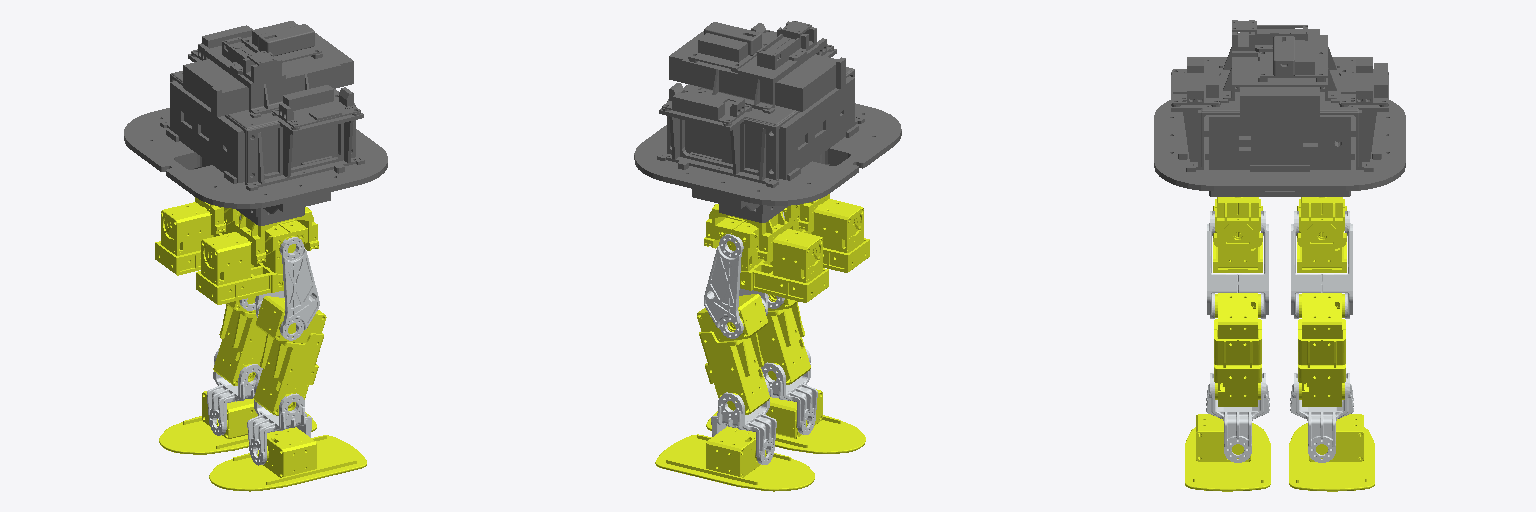
robot.urdf — exhx5_w_b_16:
<?xml version="1.0" encoding="utf-8"?>
<!-- This URDF was automatically created by SolidWorks to URDF Exporter! Originally created by [author] ([email redacted]) 
     Commit Version: 1.5.1-0-g916b5db  Build Version: 1.5.7152.31018
     For more information, please see http://wiki.ros.org/sw_urdf_exporter -->
<robot
  name="exhx5_w_b_16">
  <link
    name="body_link">
    <inertial>
      <origin
        xyz="0.00043545 0.00025536 0.10071"
        rpy="0 0 0" />
      <mass
        value="1.8238" />
      <inertia
        ixx="0.0025905"
        ixy="-5.6852E-06"
        ixz="-1.3106E-05"
        iyy="0.0024595"
        iyz="-1.261E-06"
        izz="0.0046407" />
    </inertial>
    <visual>
      <origin
        xyz="0 0 0"
        rpy="0 0 0" />
      <geometry>
        <mesh
          filename="../meshes/body_link.STL" />
      </geometry>
      <material
        name="">
        <color
          rgba="0.49804 0.49804 0.49804 1" />
      </material>
    </visual>
    <collision>
      <origin
        xyz="0 0 0"
        rpy="0 0 0" />
      <geometry>
        <mesh
          filename="../meshes/body_link.STL" />
      </geometry>
    </collision>
  </link>

  <link
    name="imu_link">
    <inertial>
      <origin
        xyz="-0.008387 1.336E-17 -0.0069463"
        rpy="0 0 0" />
      <mass
        value="0.0062931" />
      <inertia
        ixx="3.2242E-07"
        ixy="3.3527E-22"
        ixz="-6.9193E-08"
        iyy="9.2229E-07"
        iyz="-8.0392E-22"
        izz="1.1018E-06" />
    </inertial>
    <visual>
      <origin
        xyz="0 0 0"
        rpy="0 0 0" />
      <geometry>
        <mesh
          filename="../meshes/imu_link.STL" />
      </geometry>
      <material
        name="">
        <color
          rgba="0.79216 0.81961 0.93333 1" />
      </material>
    </visual>
    <collision>
      <origin
        xyz="0 0 0"
        rpy="0 0 0" />
      <geometry>
        <mesh
          filename="../meshes/imu_link.STL" />
      </geometry>
    </collision>
  </link>
  <joint
    name="imu"
    type="fixed">
    <origin
      xyz="0 0 0.0492"
      rpy="0 0 0" />
    <parent
      link="body_link" />
    <child
      link="imu_link" />
    <axis
      xyz="0 0 0" />
    <limit
      lower="-3.14"
      upper="3.14"
      effort="4"
      velocity="4" />
  </joint>
  <link
    name="l_hip_g_link">
    <inertial>
      <origin
        xyz="-0.0043797 -8.6604E-08 0.011813"
        rpy="0 0 0" />
      <mass
        value="0.061008" />
      <inertia
        ixx="1.167E-05"
        ixy="7.1767E-11"
        ixz="9.1442E-09"
        iyy="2.2342E-05"
        iyz="2.5177E-11"
        izz="2.4892E-05" />
    </inertial>
    <visual>
      <origin
        xyz="0 0 0"
        rpy="0 0 0" />
      <geometry>
        <mesh
          filename="../meshes/l_hip_g_link.STL" />
      </geometry>
      <material
        name="">
        <color
          rgba="0.9451 1 0.18431 1" />
      </material>
    </visual>
    <collision>
      <origin
        xyz="0 0 0"
        rpy="0 0 0" />
      <geometry>
        <mesh
          filename="../meshes/l_hip_g_link.STL" />
      </geometry>
    </collision>
  </link>
  <joint
    name="l_hip_g"
    type="fixed">
    <origin
      xyz="-.001 .035 0"
      rpy="0 0 0" />
    <parent
      link="body_link" />
    <child
      link="l_hip_g_link" />
    <axis
      xyz="0 0 0" />
  </joint>
  <link
    name="l_hip_roll_link">
    <inertial>
      <origin
        xyz="0.013831 0.00033457 0.025453"
        rpy="0 0 0" />
      <mass
        value="0.2969" />
      <inertia
        ixx="7.8136E-05"
        ixy="7.265E-07"
        ixz="-6.9809E-08"
        iyy="9.2183E-05"
        iyz="-5.6881E-11"
        izz="7.1034E-05" />
    </inertial>
    <visual>
      <origin
        xyz="0 0 0"
        rpy="0 0 0" />
      <geometry>
        <mesh
          filename="../meshes/l_hip_roll_link.STL" />
      </geometry>
      <material
        name="">
        <color
          rgba="0.9451 1 0.18431 1" />
      </material>
    </visual>
    <collision>
      <origin
        xyz="0 0 0"
        rpy="0 0 0" />
      <geometry>
        <mesh
          filename="../meshes/l_hip_roll_link.STL" />
      </geometry>
    </collision>
  </link>
  <joint
    name="l_hip_roll"
    type="revolute">
    <origin
      xyz="0 0 0"
      rpy="3.1416 1.5708 0" />
    <parent
      link="l_hip_g_link" />
    <child
      link="l_hip_roll_link" />
    <axis
      xyz="0 0 1" />
    <limit
      lower="-3.14"
      upper="3.14"
      effort="4"
      velocity="4" />
  </joint>
  <link
    name="l_hip_pitch_link">
    <inertial>
      <origin
        xyz="0.041225 -0.007321 -5.0713E-08"
        rpy="0 0 0" />
      <mass
        value="0.051592" />
      <inertia
        ixx="2.7959E-05"
        ixy="2.0752E-06"
        ixz="-8.0934E-11"
        iyy="4.8156E-05"
        iyz="3.6317E-11"
        izz="2.9604E-05" />
    </inertial>
    <visual>
      <origin
        xyz="0 0 0"
        rpy="0 0 0" />
      <geometry>
        <mesh
          filename="../meshes/l_hip_pitch_link.STL" />
      </geometry>
      <material
        name="">
        <color
          rgba="0.89804 0.91765 0.92941 1" />
      </material>
    </visual>
    <collision>
      <origin
        xyz="0 0 0"
        rpy="0 0 0" />
      <geometry>
        <mesh
          filename="../meshes/l_hip_pitch_link.STL" />
      </geometry>
    </collision>
  </link>
  <joint
    name="l_hip_pitch"
    type="revolute">
    <origin
      xyz="0 0 0"
      rpy="1.5708 0 0" />
    <parent
      link="l_hip_roll_link" />
    <child
      link="l_hip_pitch_link" />
    <axis
      xyz="0 0 1" />
    <limit
      lower="-3.14"
      upper="3.14"
      effort="4"
      velocity="4" />
  </joint>
  <link
    name="l_knee_link">
    <inertial>
      <origin
        xyz="0.033756 -0.0084189 -6.6115E-09"
        rpy="0 0 0" />
      <mass
        value="0.28878" />
      <inertia
        ixx="6.6724E-05"
        ixy="7.5004E-07"
        ixz="-8.4578E-07"
        iyy="6.5699E-05"
        iyz="4.1085E-07"
        izz="7.0381E-05" />
    </inertial>
    <visual>
      <origin
        xyz="0 0 0"
        rpy="0 0 0" />
      <geometry>
        <mesh
          filename="../meshes/l_knee_link.STL" />
      </geometry>
      <material
        name="">
        <color
          rgba="0.9451 1 0.18431 1" />
      </material>
    </visual>
    <collision>
      <origin
        xyz="0 0 0"
        rpy="0 0 0" />
      <geometry>
        <mesh
          filename="../meshes/l_knee_link.STL" />
      </geometry>
    </collision>
  </link>
  <joint
    name="l_knee"
    type="revolute">
    <origin
      xyz="0.075954 0 0"
      rpy="0 0 0" />
    <parent
      link="l_hip_pitch_link" />
    <child
      link="l_knee_link" />
    <axis
      xyz="0 0 1" />
    <limit
      lower="-3.14"
      upper="3.14"
      effort="4"
      velocity="4" />
  </joint>
  <link
    name="l_ank_pitch_link">
    <inertial>
      <origin
        xyz="0.022786 -7.3909E-09 -7.1981E-06"
        rpy="0 0 0" />
      <mass
        value="0.044772" />
      <inertia
        ixx="1.777E-05"
        ixy="8.555E-14"
        ixz="-3.3713E-09"
        iyy="1.7119E-05"
        iyz="1.7593E-11"
        izz="1.8661E-05" />
    </inertial>
    <visual>
      <origin
        xyz="0 0 0"
        rpy="0 0 0" />
      <geometry>
        <mesh
          filename="../meshes/l_ank_pitch_link.STL" />
      </geometry>
      <material
        name="">
        <color
          rgba="0.89804 0.91765 0.92941 1" />
      </material>
    </visual>
    <collision>
      <origin
        xyz="0 0 0"
        rpy="0 0 0" />
      <geometry>
        <mesh
          filename="../meshes/l_ank_pitch_link.STL" />
      </geometry>
    </collision>
  </link>
  <joint
    name="l_ank_pitch"
    type="revolute">
    <origin
      xyz="0.074602 0 0"
      rpy="3.1416 0 0" />
    <parent
      link="l_knee_link" />
    <child
      link="l_ank_pitch_link" />
    <axis
      xyz="0 0 1" />
    <limit
      lower="-3.14"
      upper="3.14"
      effort="4"
      velocity="4" />
  </joint>
  <link
    name="l_ank_roll_link">
    <inertial>
      <origin
        xyz="0.0047069 0.010728 0.0015299"
        rpy="0 0 0" />
      <mass
        value="0.16774" />
      <inertia
        ixx="0.00012039"
        ixy="-3.7428E-09"
        ixz="4.4069E-08"
        iyy="8.7735E-05"
        iyz="7.0469E-07"
        izz="4.7866E-05" />
    </inertial>
    <visual>
      <origin
        xyz="0 0 0"
        rpy="0 0 0" />
      <geometry>
        <mesh
          filename="../meshes/l_ank_roll_link.STL" />
      </geometry>
      <material
        name="">
        <color
          rgba="0.9451 1 0.18431 1" />
      </material>
    </visual>
    <collision>
      <origin
        xyz="0 0 0"
        rpy="0 0 0" />
      <geometry>
        <mesh
          filename="../meshes/l_ank_roll_link.STL" />
      </geometry>
    </collision>
  </link>
  <joint
    name="l_ank_roll"
    type="revolute">
    <origin
      xyz="0.0465 0 0"
      rpy="-1.5708 0 0" />
    <parent
      link="l_ank_pitch_link" />
    <child
      link="l_ank_roll_link" />
    <axis
      xyz="0 0 1" />
    <limit
      lower="-3.14"
      upper="3.14"
      effort="4"
      velocity="4" />
  </joint>
  <link
    name="r_hip_g_link">
    <inertial>
      <origin
        xyz="-0.0043797 -8.6604E-08 0.011813"
        rpy="0 0 0" />
      <mass
        value="0.061008" />
      <inertia
        ixx="1.167E-05"
        ixy="7.1767E-11"
        ixz="9.1442E-09"
        iyy="2.2342E-05"
        iyz="2.5177E-11"
        izz="2.4892E-05" />
    </inertial>
    <visual>
      <origin
        xyz="0 0 0"
        rpy="0 0 0" />
      <geometry>
        <mesh
          filename="../meshes/r_hip_g_link.STL" />
      </geometry>
      <material
        name="">
        <color
          rgba="0.9451 1 0.18431 1" />
      </material>
    </visual>
    <collision>
      <origin
        xyz="0 0 0"
        rpy="0 0 0" />
      <geometry>
        <mesh
          filename="../meshes/r_hip_g_link.STL" />
      </geometry>
    </collision>
  </link>
  <joint
    name="r_hip_g"
    type="fixed">
    <origin
      xyz="-.001 -.035 0"
      rpy="0 0 0" />
    <parent
      link="body_link" />
    <child
      link="r_hip_g_link" />
    <axis
      xyz="0 0 0" />
  </joint>
  <link
    name="r_hip_roll_link">
    <inertial>
      <origin
        xyz="0.013831 0.00033457 0.025453"
        rpy="0 0 0" />
      <mass
        value="0.2969" />
      <inertia
        ixx="7.8136E-05"
        ixy="7.265E-07"
        ixz="-6.9809E-08"
        iyy="9.2183E-05"
        iyz="-5.6881E-11"
        izz="7.1034E-05" />
    </inertial>
    <visual>
      <origin
        xyz="0 0 0"
        rpy="0 0 0" />
      <geometry>
        <mesh
          filename="../meshes/r_hip_roll_link.STL" />
      </geometry>
      <material
        name="">
        <color
          rgba="0.9451 1 0.18431 1" />
      </material>
    </visual>
    <collision>
      <origin
        xyz="0 0 0"
        rpy="0 0 0" />
      <geometry>
        <mesh
          filename="../meshes/r_hip_roll_link.STL" />
      </geometry>
    </collision>
  </link>
  <joint
    name="r_hip_roll"
    type="revolute">
    <origin
      xyz="0 0 0"
      rpy="3.1416 1.5708 0" />
    <parent
      link="r_hip_g_link" />
    <child
      link="r_hip_roll_link" />
    <axis
      xyz="0 0 1" />
    <limit
      lower="-3.14"
      upper="3.14"
      effort="4"
      velocity="4" />
  </joint>
  <link
    name="r_hip_pitch_link">
    <inertial>
      <origin
        xyz="0.041225 0.007321 5.0713E-08"
        rpy="0 0 0" />
      <mass
        value="0.051592" />
      <inertia
        ixx="2.7959E-05"
        ixy="-2.0752E-06"
        ixz="8.0934E-11"
        iyy="4.8156E-05"
        iyz="3.6317E-11"
        izz="2.9604E-05" />
    </inertial>
    <visual>
      <origin
        xyz="0 0 0"
        rpy="0 0 0" />
      <geometry>
        <mesh
          filename="../meshes/r_hip_pitch_link.STL" />
      </geometry>
      <material
        name="">
        <color
          rgba="0.89804 0.91765 0.92941 1" />
      </material>
    </visual>
    <collision>
      <origin
        xyz="0 0 0"
        rpy="0 0 0" />
      <geometry>
        <mesh
          filename="../meshes/r_hip_pitch_link.STL" />
      </geometry>
    </collision>
  </link>
  <joint
    name="r_hip_pitch"
    type="revolute">
    <origin
      xyz="0 0 0"
      rpy="-1.5708 0 0" />
    <parent
      link="r_hip_roll_link" />
    <child
      link="r_hip_pitch_link" />
    <axis
      xyz="0 0 1" />
    <limit
      lower="-3.14"
      upper="3.14"
      effort="4"
      velocity="4" />
  </joint>
  <link
    name="r_knee_link">
    <inertial>
      <origin
        xyz="0.033757 0.0084176 6.6115E-09"
        rpy="0 0 0" />
      <mass
        value="0.28878" />
      <inertia
        ixx="6.6724E-05"
        ixy="-7.5008E-07"
        ixz="8.458E-07"
        iyy="6.5699E-05"
        iyz="4.1081E-07"
        izz="7.0381E-05" />
    </inertial>
    <visual>
      <origin
        xyz="0 0 0"
        rpy="0 0 0" />
      <geometry>
        <mesh
          filename="../meshes/r_knee_link.STL" />
      </geometry>
      <material
        name="">
        <color
          rgba="0.9451 1 0.18431 1" />
      </material>
    </visual>
    <collision>
      <origin
        xyz="0 0 0"
        rpy="0 0 0" />
      <geometry>
        <mesh
          filename="../meshes/r_knee_link.STL" />
      </geometry>
    </collision>
  </link>
  <joint
    name="r_knee"
    type="revolute">
    <origin
      xyz="0.075954 0 0"
      rpy="0 0 0" />
    <parent
      link="r_hip_pitch_link" />
    <child
      link="r_knee_link" />
    <axis
      xyz="0 0 1" />
    <limit
      lower="-3.14"
      upper="3.14"
      effort="4"
      velocity="4" />
  </joint>
  <link
    name="r_ank_pitch_link">
    <inertial>
      <origin
        xyz="0.025786 -7.3887E-09 -7.1981E-06"
        rpy="0 0 0" />
      <mass
        value="0.044772" />
      <inertia
        ixx="1.777E-05"
        ixy="8.5434E-14"
        ixz="-3.3713E-09"
        iyy="1.7119E-05"
        iyz="1.7592E-11"
        izz="1.8661E-05" />
    </inertial>
    <visual>
      <origin
        xyz="0 0 0"
        rpy="0 0 0" />
      <geometry>
        <mesh
          filename="../meshes/r_ank_pitch_link.STL" />
      </geometry>
      <material
        name="">
        <color
          rgba="0.89804 0.91765 0.92941 1" />
      </material>
    </visual>
    <collision>
      <origin
        xyz="0 0 0"
        rpy="0 0 0" />
      <geometry>
        <mesh
          filename="../meshes/r_ank_pitch_link.STL" />
      </geometry>
    </collision>
  </link>
  <joint
    name="r_ank_pitch"
    type="revolute">
    <origin
      xyz="0.071602 0 0"
      rpy="3.1416 0 0" />
    <parent
      link="r_knee_link" />
    <child
      link="r_ank_pitch_link" />
    <axis
      xyz="0 0 1" />
    <limit
      lower="-3.14"
      upper="3.14"
      effort="4"
      velocity="4" />
  </joint>
  <link
    name="r_ank_roll_link">
    <inertial>
      <origin
        xyz="0.0077069 -0.010728 0.0015299"
        rpy="0 0 0" />
      <mass
        value="0.16774" />
      <inertia
        ixx="0.00012039"
        ixy="3.743E-09"
        ixz="4.407E-08"
        iyy="8.7735E-05"
        iyz="-7.0467E-07"
        izz="4.7866E-05" />
    </inertial>
    <visual>
      <origin
        xyz="0 0 0"
        rpy="0 0 0" />
      <geometry>
        <mesh
          filename="../meshes/r_ank_roll_link.STL" />
      </geometry>
      <material
        name="">
        <color
          rgba="0.9451 1 0.18431 1" />
      </material>
    </visual>
    <collision>
      <origin
        xyz="0 0 0"
        rpy="0 0 0" />
      <geometry>
        <mesh
          filename="../meshes/r_ank_roll_link.STL" />
      </geometry>
    </collision>
  </link>
  <joint
    name="r_ank_roll"
    type="revolute">
    <origin
      xyz="0.0465 0 0"
      rpy="1.5708 0 0" />
    <parent
      link="r_ank_pitch_link" />
    <child
      link="r_ank_roll_link" />
    <axis
      xyz="0 0 1" />
    <limit
      lower="-3.14"
      upper="3.14"
      effort="4"
      velocity="4" />
  </joint>
  <transmission name="r_hip_roll_tran">
    <type>transmission_interface/SimpleTransmission</type>
    <joint name="r_hip_roll">
      <hardwareInterface>hardware_interface/EffortJointInterface</hardwareInterface>
    </joint>
    <actuator name="r_hip_roll_motor">
      <hardwareInterface>hardware_interface/EffortJointInterface</hardwareInterface>
      <mechanicalReduction>1</mechanicalReduction>
    </actuator>
  </transmission>
  <transmission name="r_hip_pitch_tran">
    <type>transmission_interface/SimpleTransmission</type>
    <joint name="r_hip_pitch">
      <hardwareInterface>hardware_interface/EffortJointInterface</hardwareInterface>
    </joint>
    <actuator name="r_hip_pitch_motor">
      <hardwareInterface>hardware_interface/EffortJointInterface</hardwareInterface>
      <mechanicalReduction>1</mechanicalReduction>
    </actuator>
  </transmission>
  <transmission name="r_knee_tran">
    <type>transmission_interface/SimpleTransmission</type>
    <joint name="r_knee">
      <hardwareInterface>hardware_interface/EffortJointInterface</hardwareInterface>
    </joint>
    <actuator name="r_knee_motor">
      <hardwareInterface>hardware_interface/EffortJointInterface</hardwareInterface>
      <mechanicalReduction>1</mechanicalReduction>
    </actuator>
  </transmission>
  <transmission name="r_ank_pitch_tran">
    <type>transmission_interface/SimpleTransmission</type>
    <joint name="r_ank_pitch">
      <hardwareInterface>hardware_interface/EffortJointInterface</hardwareInterface>
    </joint>
    <actuator name="r_ank_pitch_motor">
      <hardwareInterface>hardware_interface/EffortJointInterface</hardwareInterface>
      <mechanicalReduction>1</mechanicalReduction>
    </actuator>
  </transmission>
  <transmission name="r_ank_roll_tran">
    <type>transmission_interface/SimpleTransmission</type>
    <joint name="r_ank_roll">
      <hardwareInterface>hardware_interface/EffortJointInterface</hardwareInterface>
    </joint>
    <actuator name="r_ank_roll_motor">
      <hardwareInterface>hardware_interface/EffortJointInterface</hardwareInterface>
      <mechanicalReduction>1</mechanicalReduction>
    </actuator>
  </transmission>
  <transmission name="l_hip_roll_tran">
    <type>transmission_interface/SimpleTransmission</type>
    <joint name="l_hip_roll">
      <hardwareInterface>hardware_interface/EffortJointInterface</hardwareInterface>
    </joint>
    <actuator name="l_hip_roll_motor">
      <hardwareInterface>hardware_interface/EffortJointInterface</hardwareInterface>
      <mechanicalReduction>1</mechanicalReduction>
    </actuator>
  </transmission>
  <transmission name="l_hip_pitch_tran">
    <type>transmission_interface/SimpleTransmission</type>
    <joint name="l_hip_pitch">
      <hardwareInterface>hardware_interface/EffortJointInterface</hardwareInterface>
    </joint>
    <actuator name="l_hip_pitch_motor">
      <hardwareInterface>hardware_interface/EffortJointInterface</hardwareInterface>
      <mechanicalReduction>1</mechanicalReduction>
    </actuator>
  </transmission>
  <transmission name="l_knee_tran">
    <type>transmission_interface/SimpleTransmission</type>
    <joint name="l_knee">
      <hardwareInterface>hardware_interface/EffortJointInterface</hardwareInterface>
    </joint>
    <actuator name="l_knee_motor">
      <hardwareInterface>hardware_interface/EffortJointInterface</hardwareInterface>
      <mechanicalReduction>1</mechanicalReduction>
    </actuator>
  </transmission>
  <transmission name="l_ank_pitch_tran">
    <type>transmission_interface/SimpleTransmission</type>
    <joint name="l_ank_pitch">
      <hardwareInterface>hardware_interface/EffortJointInterface</hardwareInterface>
    </joint>
    <actuator name="l_ank_pitch_motor">
      <hardwareInterface>hardware_interface/EffortJointInterface</hardwareInterface>
      <mechanicalReduction>1</mechanicalReduction>
    </actuator>
  </transmission>
  <transmission name="l_ank_roll_tran">
    <type>transmission_interface/SimpleTransmission</type>
    <joint name="l_ank_roll">
      <hardwareInterface>hardware_interface/EffortJointInterface</hardwareInterface>
    </joint>
    <actuator name="l_ank_roll_motor">
      <hardwareInterface>hardware_interface/EffortJointInterface</hardwareInterface>
      <mechanicalReduction>1</mechanicalReduction>
    </actuator>
  </transmission>
</robot>

--- Render facts (derived) ---
Views: 3 orthographic renders of the robot side by side, from view 1: azimuth 30°, elevation 25°; view 2: azimuth 150°, elevation 25°; view 3: azimuth 270°, elevation 25°.
Model exhx5_w_b_16 with 14 links and 13 joints (10 revolute, 3 fixed), rooted at body_link, posed every joint at zero.
Visible links, largest first — view 1: body_link, r_ank_roll_link, r_hip_roll_link, r_knee_link, l_hip_roll_link, l_ank_roll_link, r_hip_pitch_link, l_knee_link, r_ank_pitch_link, l_ank_pitch_link, r_hip_g_link; view 2: body_link, l_ank_roll_link, l_hip_roll_link, l_knee_link, r_hip_roll_link, r_ank_roll_link, l_hip_pitch_link, r_knee_link, l_ank_pitch_link, r_ank_pitch_link, l_hip_g_link; view 3: body_link, l_knee_link, r_knee_link, r_ank_roll_link, l_ank_roll_link, l_hip_pitch_link, r_hip_pitch_link, l_ank_pitch_link, r_ank_pitch_link, r_hip_g_link, l_hip_g_link, l_hip_roll_link (+1 smaller).
Link boxes in pixels (x1,y1,x2,y2): body_link: (124, 21, 387, 225); r_ank_roll_link: (209, 427, 366, 491); r_hip_roll_link: (196, 219, 307, 304); r_knee_link: (254, 296, 326, 415); l_hip_roll_link: (155, 202, 240, 275); l_ank_roll_link: (159, 391, 316, 454); r_hip_pitch_link: (255, 237, 319, 340); l_knee_link: (213, 296, 266, 385); r_ank_pitch_link: (247, 379, 311, 465); l_ank_pitch_link: (207, 349, 262, 435); r_hip_g_link: (235, 207, 318, 264); body_link: (634, 21, 901, 222); l_ank_roll_link: (655, 426, 814, 491); l_hip_roll_link: (715, 216, 828, 302); l_knee_link: (697, 294, 769, 414); r_hip_roll_link: (783, 199, 869, 272); r_ank_roll_link: (706, 389, 865, 453); l_hip_pitch_link: (704, 234, 768, 338); r_knee_link: (757, 294, 810, 384); l_ank_pitch_link: (711, 377, 776, 464); r_ank_pitch_link: (761, 347, 817, 434); l_hip_g_link: (704, 204, 788, 261); body_link: (1154, 20, 1405, 196); l_knee_link: (1298, 293, 1345, 406); r_knee_link: (1214, 293, 1261, 406); r_ank_roll_link: (1185, 414, 1270, 491); l_ank_roll_link: (1289, 414, 1374, 491); l_hip_pitch_link: (1291, 211, 1352, 318); r_hip_pitch_link: (1207, 211, 1268, 318); l_ank_pitch_link: (1290, 373, 1353, 462); r_ank_pitch_link: (1206, 373, 1269, 462); r_hip_g_link: (1213, 197, 1262, 246); l_hip_g_link: (1297, 197, 1346, 246); l_hip_roll_link: (1297, 199, 1346, 272).
Size in the robot's own frame: 0.185 by 0.21 by 0.3893 metres.
14 mesh visuals loaded from 14 distinct referenced files (14 binary STL).
